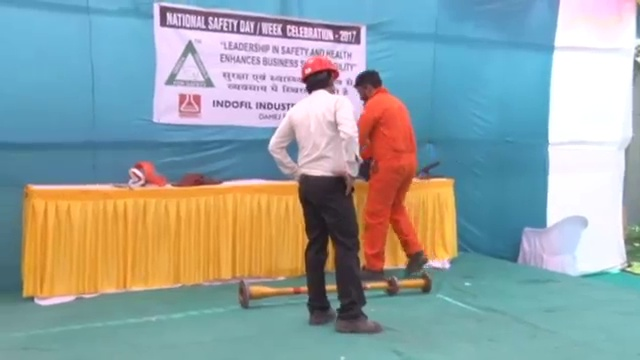helmet: (302, 55, 340, 83)
helmet_off: (352, 69, 382, 103)
helmet_on: (299, 55, 340, 100)
person: (271, 55, 383, 336), (351, 70, 429, 275)
